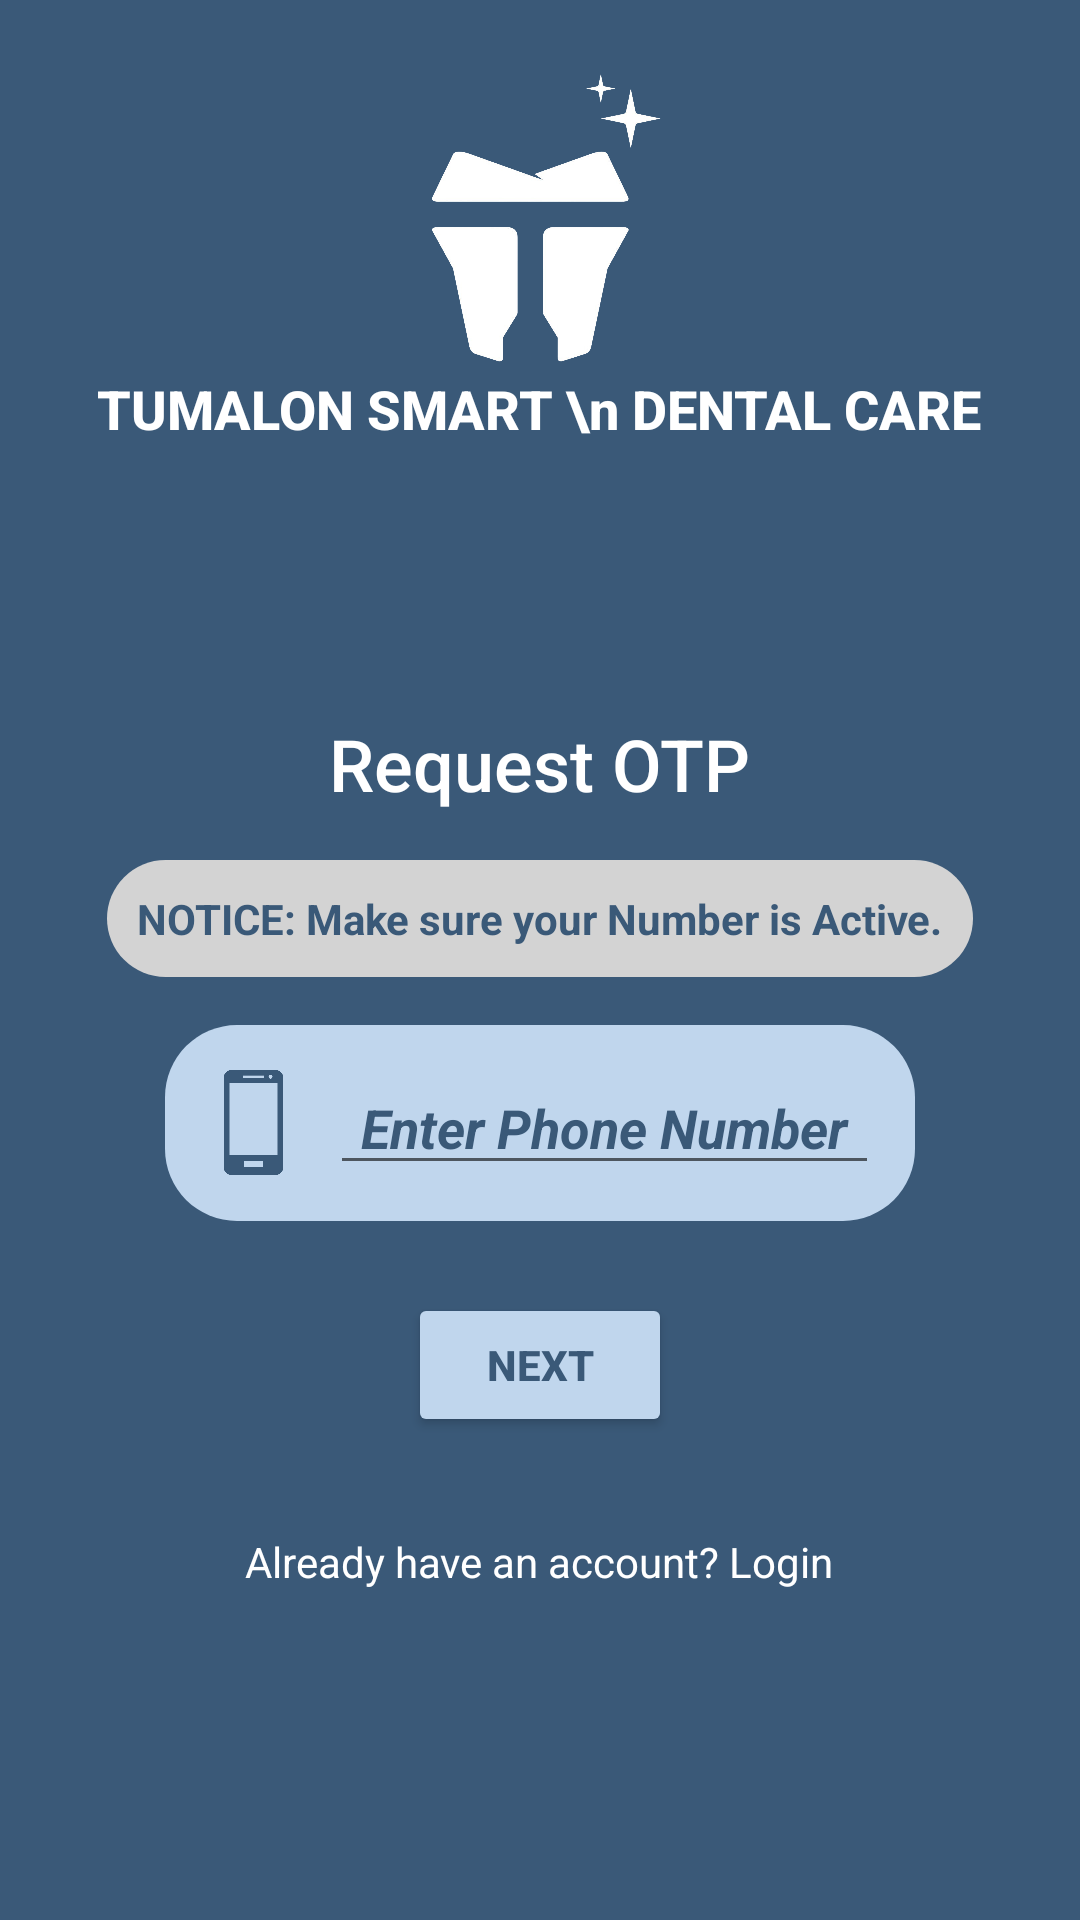

Icons on this 1080×1920 Android screen, each with its box as (x1, y1, x2, y2):
phone rblue: (224, 1070, 283, 1175)
